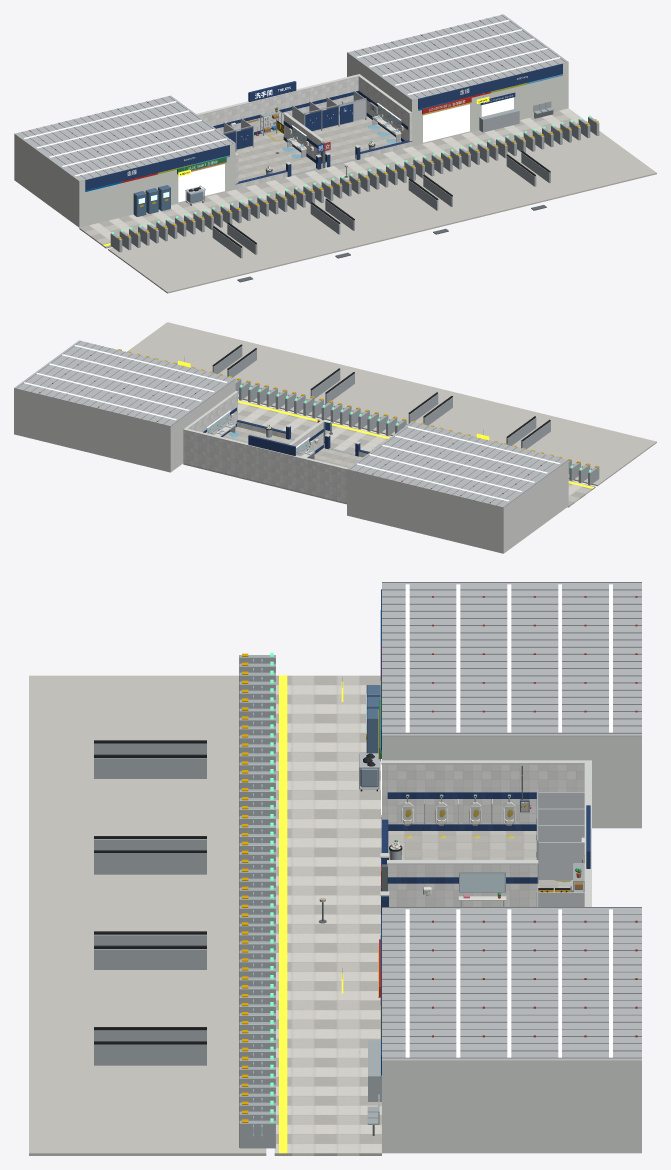
Rendered from level_mtr.glb.
3 renders of one model, top to bottom at view 1: azimuth 30°, elevation 25°; view 2: azimuth 150°, elevation 25°; view 3: azimuth 270°, elevation 25°, orthographic. The views are drawn at different scales.
Parts seen in each view (by area): view 1: neighbours, paid_side, street, walls, floor, stall_partitions, bank_dressing, signage, decor; view 2: neighbours, paid_side, walls, street, floor, signage, bank_dressing; view 3: paid_side, neighbours, street, walls, stall_partitions, floor, decor.
Part boxes in pixels (left/top/right/bottom): neighbours: left=14, top=14, right=568, bottom=227; paid_side: left=108, top=115, right=656, bottom=293; street: left=79, top=108, right=587, bottom=248; walls: left=196, top=74, right=412, bottom=189; floor: left=235, top=115, right=401, bottom=181; stall_partitions: left=222, top=90, right=366, bottom=151; bank_dressing: left=286, top=103, right=403, bottom=157; signage: left=248, top=81, right=330, bottom=168; decor: left=185, top=102, right=377, bottom=205; neighbours: left=14, top=340, right=568, bottom=553; paid_side: left=118, top=322, right=656, bottom=486; walls: left=183, top=391, right=368, bottom=502; street: left=238, top=399, right=595, bottom=507; floor: left=183, top=427, right=362, bottom=504; signage: left=248, top=420, right=330, bottom=455; bank_dressing: left=207, top=410, right=315, bottom=459; paid_side: left=29, top=652, right=275, bottom=1155; neighbours: left=341, top=582, right=641, bottom=1153; street: left=274, top=675, right=381, bottom=1155; walls: left=380, top=760, right=591, bottom=925; stall_partitions: left=536, top=789, right=584, bottom=906; floor: left=388, top=831, right=572, bottom=892; decor: left=318, top=753, right=584, bottom=923.
Size of the model in its own units: 40.01 by 5.69 by 21.7.
Materials: 83 (4 with a texture image).
